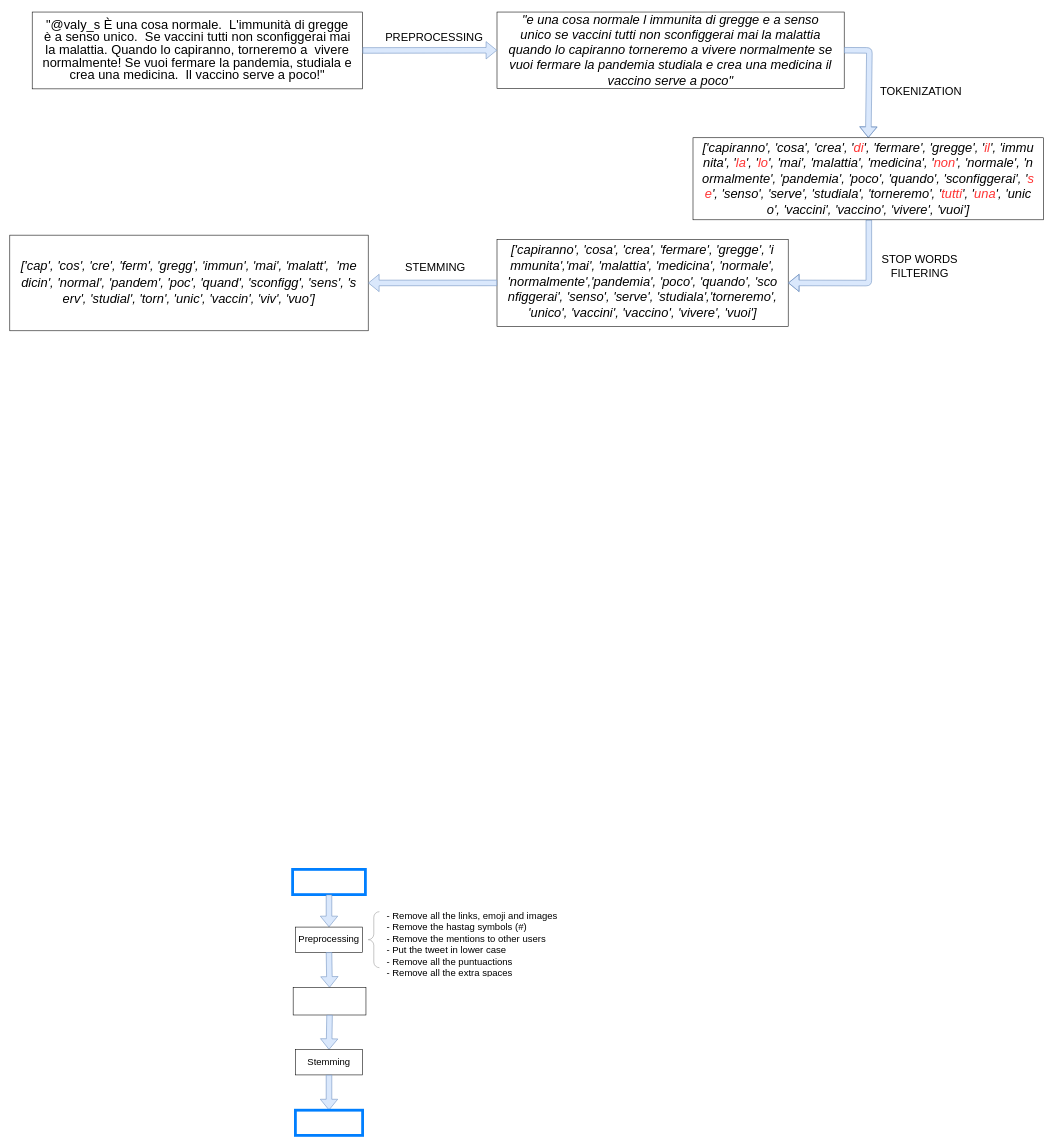
Some shapes in this 1053 by 1146 pixel diagram are drawn without their labels. Here are the shapes that lost their labels. From the top down, the box of each, then its label:
(291, 868, 367, 896): Raw training data
(293, 987, 366, 1015): Stop word filtering and tokenization
(294, 1109, 364, 1137): Feature representation
